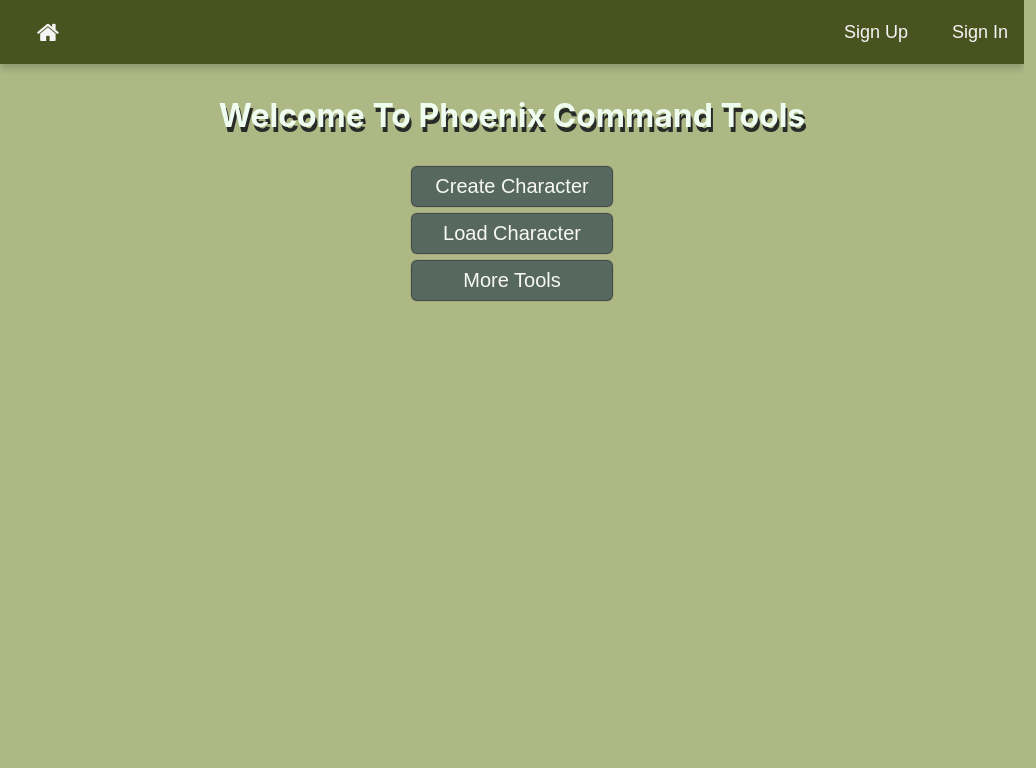
Test case: Create Character › should navigate to the Edit Character view
Step 1. Click the button "Create Character" → [512, 187], box [412, 167, 612, 206]
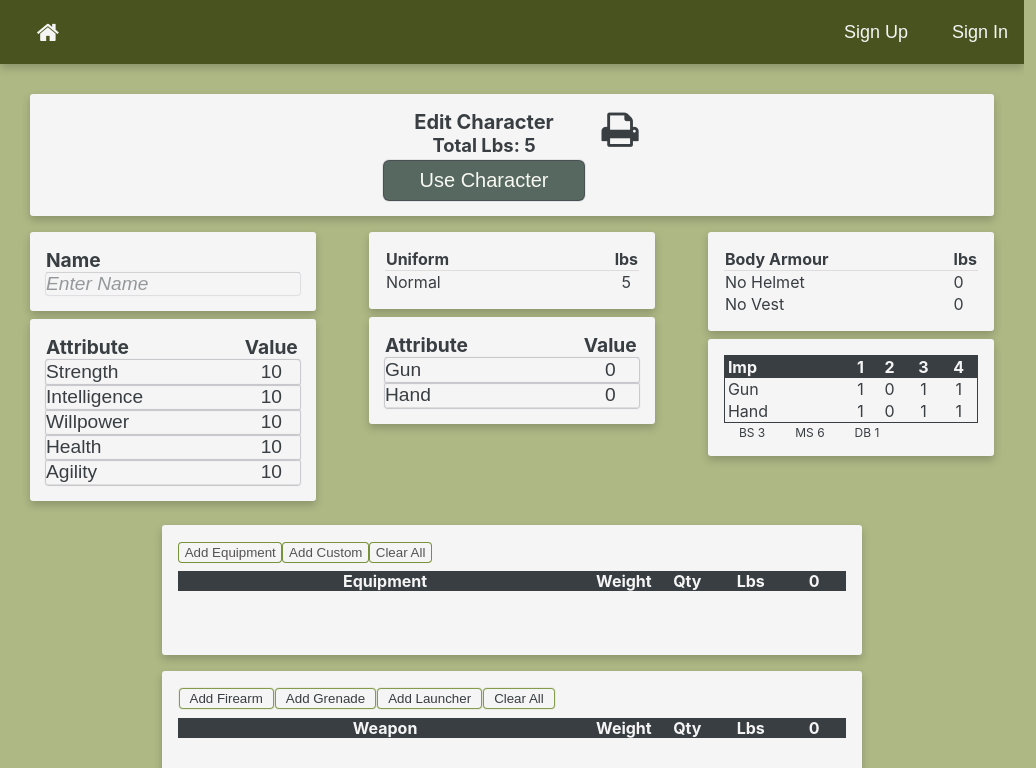
Result: the heading "Edit Character" is shown at [414, 110, 554, 134]
